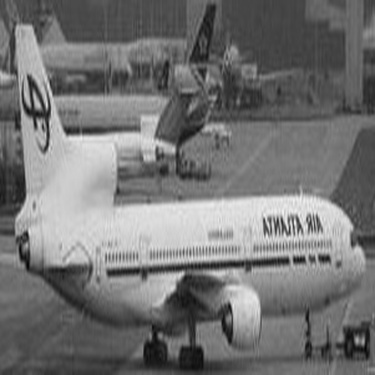airplane: (1, 5, 368, 371), (2, 4, 227, 202), (1, 15, 232, 133), (111, 2, 244, 90), (3, 1, 137, 85)
